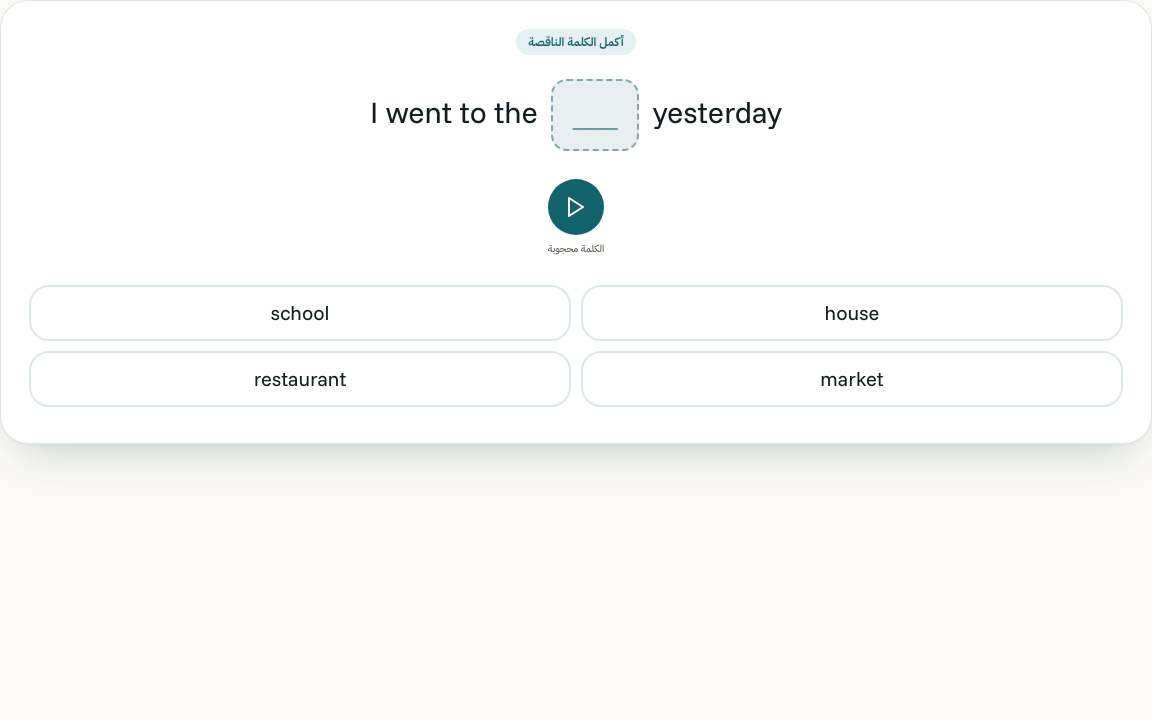
the audio › plays the real recording once the answer is in
The image size is (1152, 720).
Click the button "market": (852, 379) [581,351,1123,407]
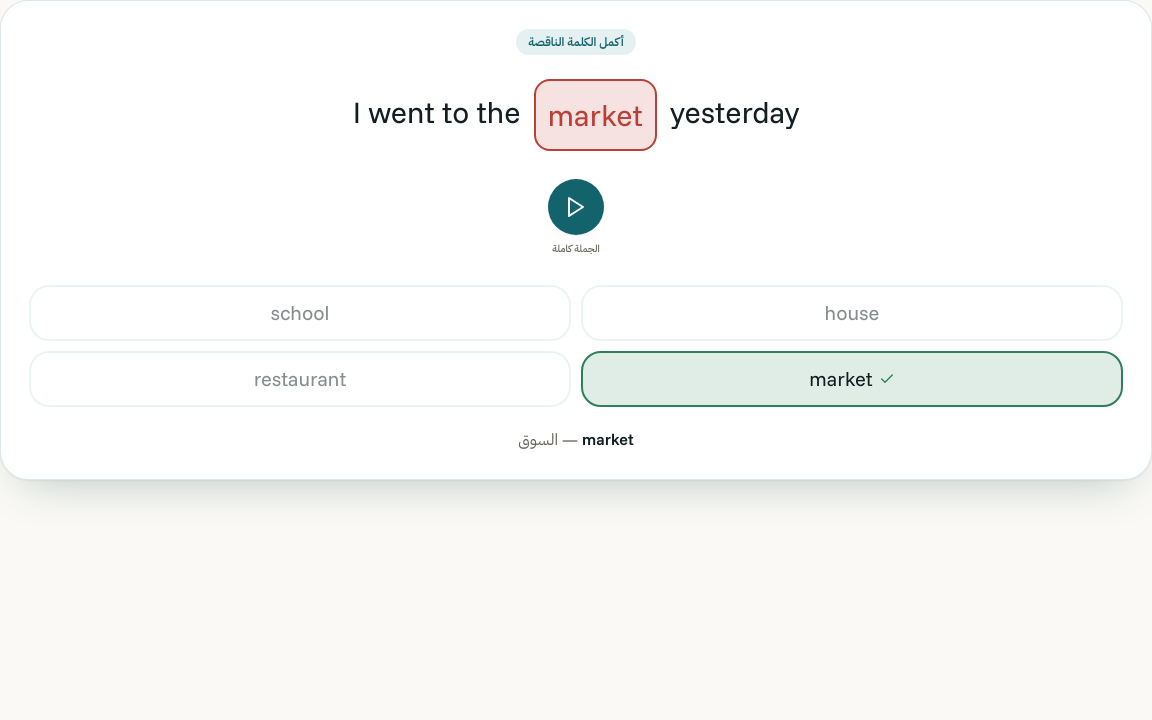
expect the text "الجملة كاملة" is shown: met, box [552,241,600,257]
